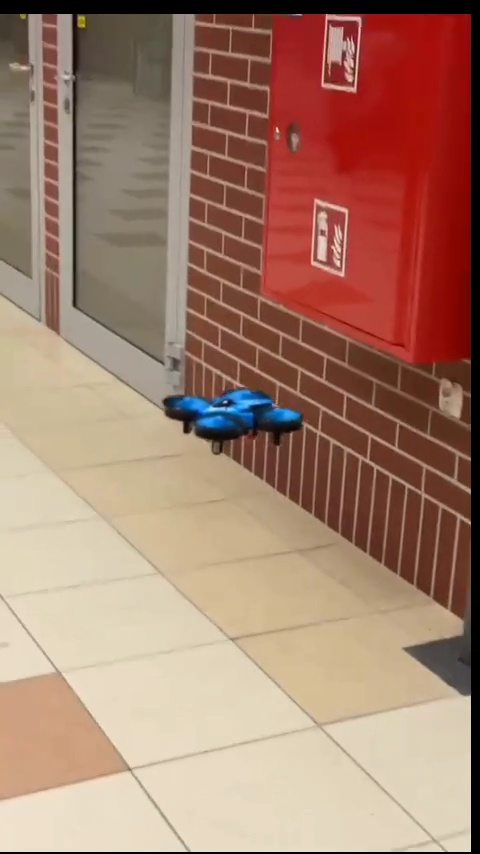drone: (162, 386, 305, 456)
